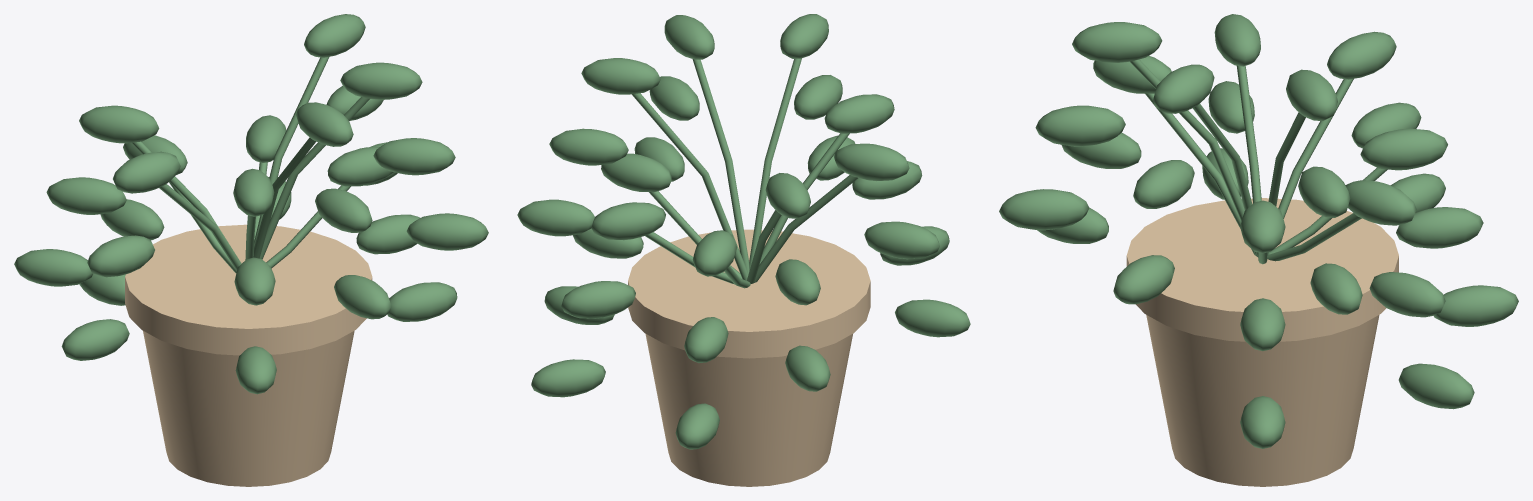
Rendered from botanic-plant.glb.
3 renders of one model, left to right at view 1: azimuth 30°, elevation 25°; view 2: azimuth 150°, elevation 25°; view 3: azimuth 270°, elevation 25°, orthographic. The views are drawn at different scales.
Visible parts, largest first — view 1: Pot.003; view 2: Pot.003; view 3: Pot.003.
Part boxes in pixels (left/top/right/bottom): Pot.003: left=14, top=14, right=488, bottom=486; Pot.003: left=517, top=14, right=970, bottom=486; Pot.003: left=999, top=14, right=1518, bottom=486.
Bounding box in the file's own units: 1.04 × 0.94 × 1.03.
